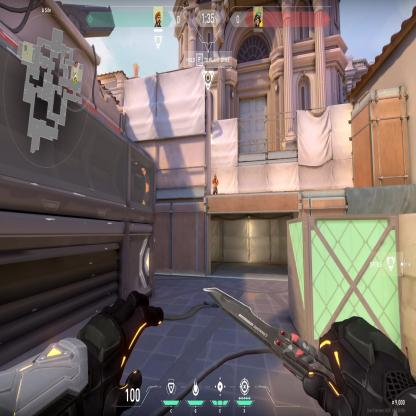enemy: (211, 172, 218, 194)
